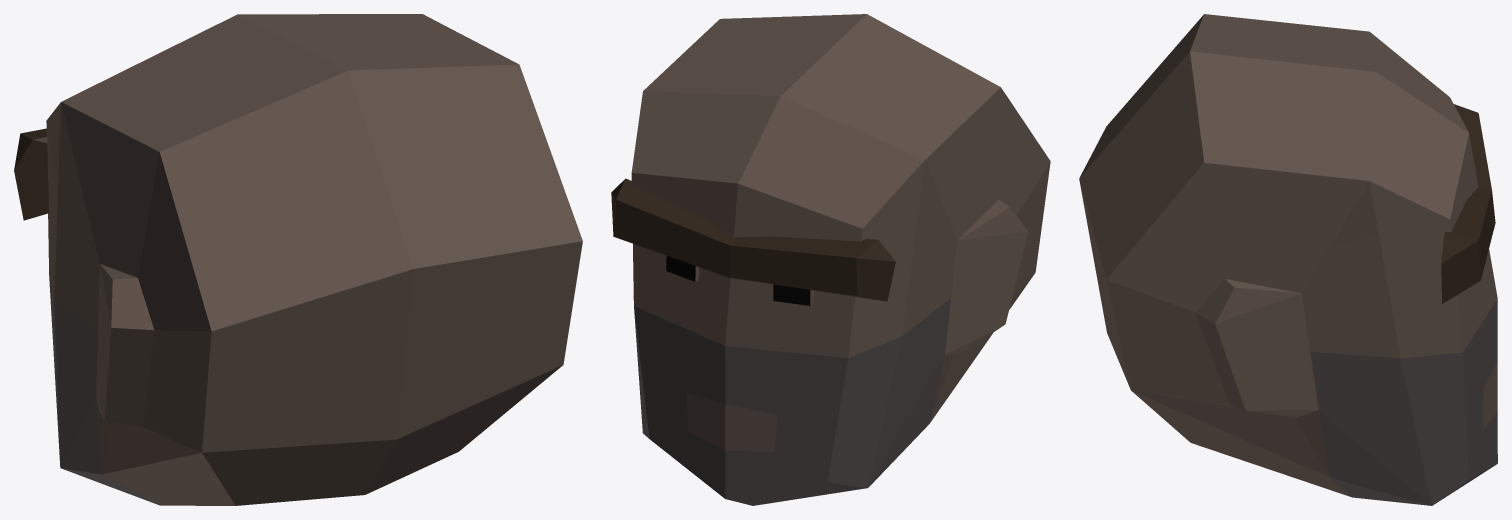
File: black_male_head 1.fbx
3 views of the same model, side by side, from view 1: azimuth 30°, elevation 25°; view 2: azimuth 150°, elevation 25°; view 3: azimuth 270°, elevation 25° (orthographic). The views are drawn at different scales.
Parts seen in each view (by area): view 1: Character_SportyMale_02; view 2: Character_SportyMale_02; view 3: Character_SportyMale_02.
Part boxes in pixels (left/top/right/bottom): Character_SportyMale_02: left=14, top=14, right=582, bottom=505; Character_SportyMale_02: left=611, top=14, right=1050, bottom=505; Character_SportyMale_02: left=1079, top=14, right=1497, bottom=505.
Bounding box in the file's own units: 2661 × 2997 × 2573.
